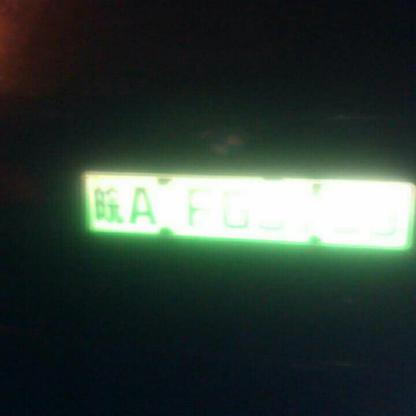lp: (84, 169, 412, 248)
